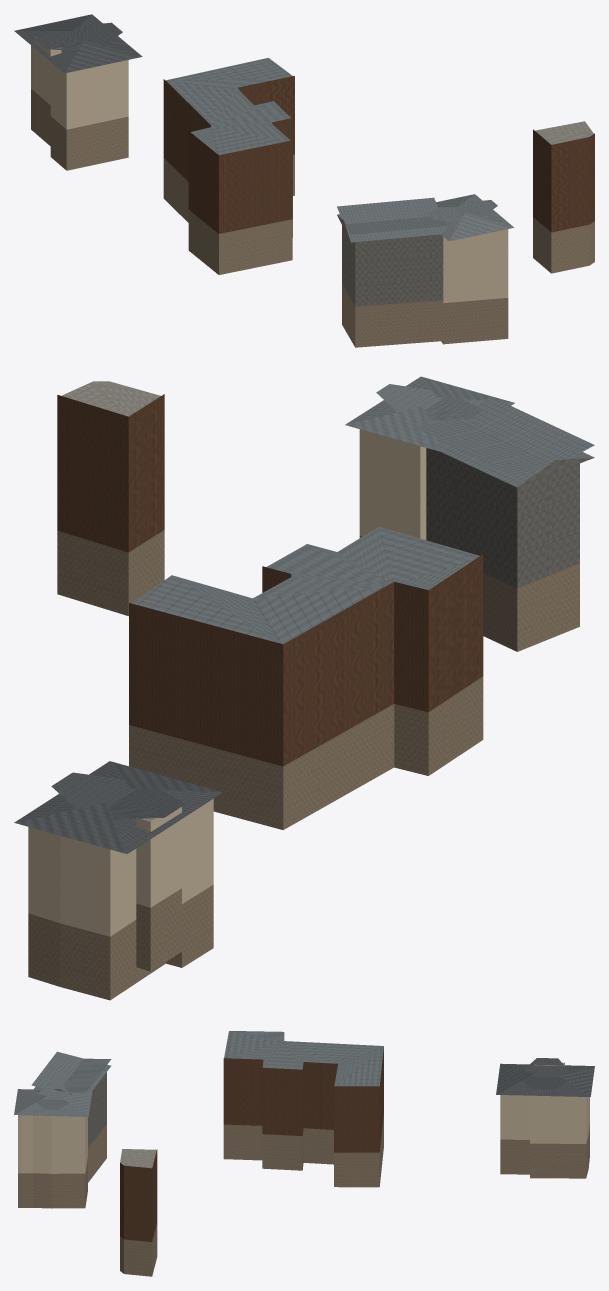
Rendered from bld_c33_-39_449.gltf.
The picture shows the model from 3 angles, top to bottom: view 1: azimuth 30°, elevation 25°; view 2: azimuth 150°, elevation 25°; view 3: azimuth 270°, elevation 25°; orthographic projection. The views are drawn at different scales.
Visible parts, largest first — view 1: bld_c33_-39_449; view 2: bld_c33_-39_449; view 3: bld_c33_-39_449.
Boxes of the visible parts, x1,y1,x2,y2 form: bld_c33_-39_449: (14,14,594,347); bld_c33_-39_449: (14,376,594,1000); bld_c33_-39_449: (14,1031,594,1276).
Bounding box in the file's own units: 41.62 × 17.08 × 77.61.
10 materials, 10 textured.
